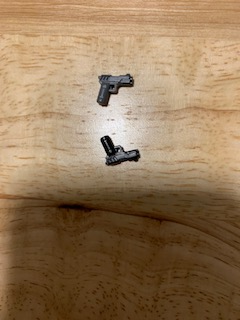pistol: (96, 133, 148, 170), (94, 72, 136, 107)
